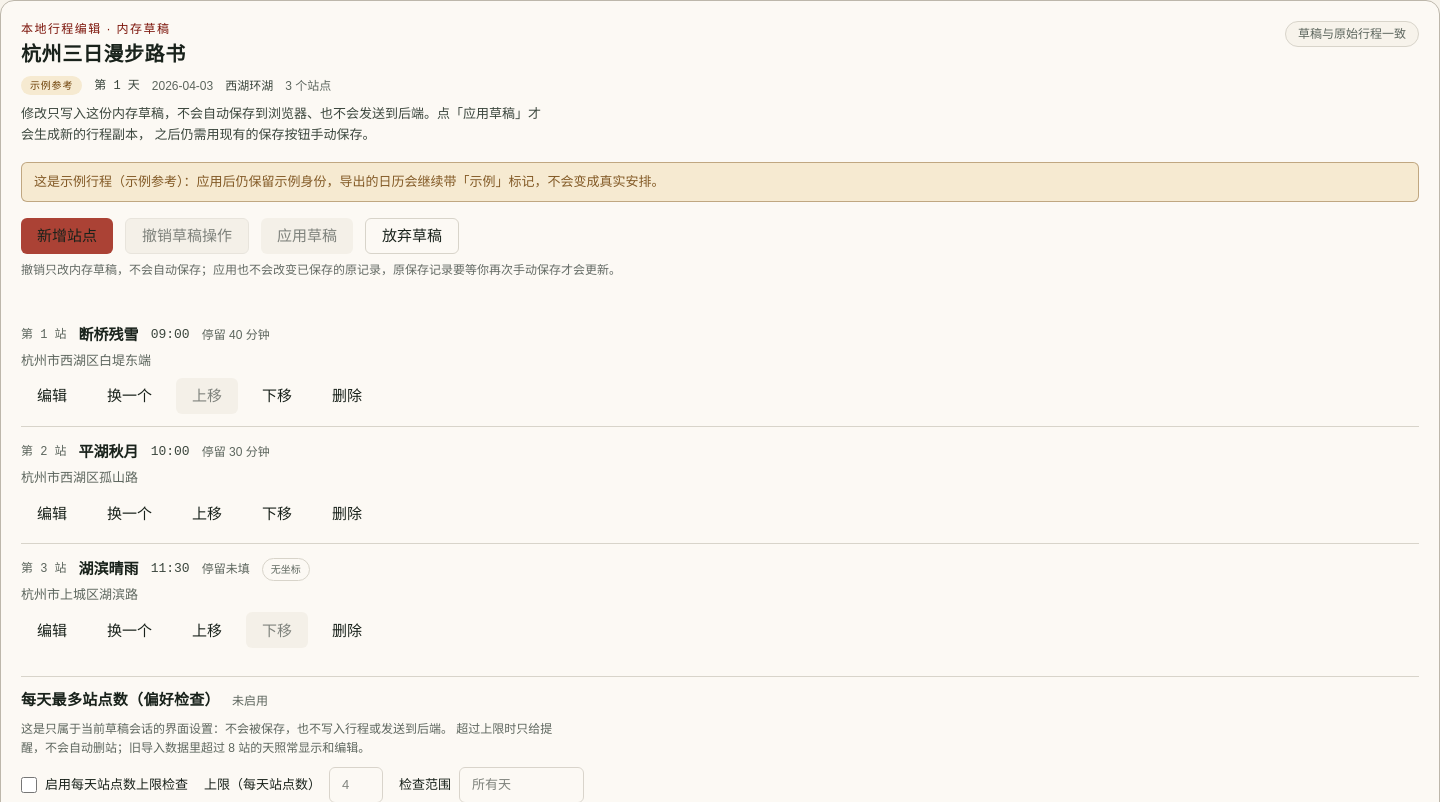
Test: TripDraftEditor · 换一个入口 › Esc 关闭后焦点回到「换一个」入口按钮
Click the button with test id "stop-swap-open-s1" at (130, 396), box [91,378,168,414]
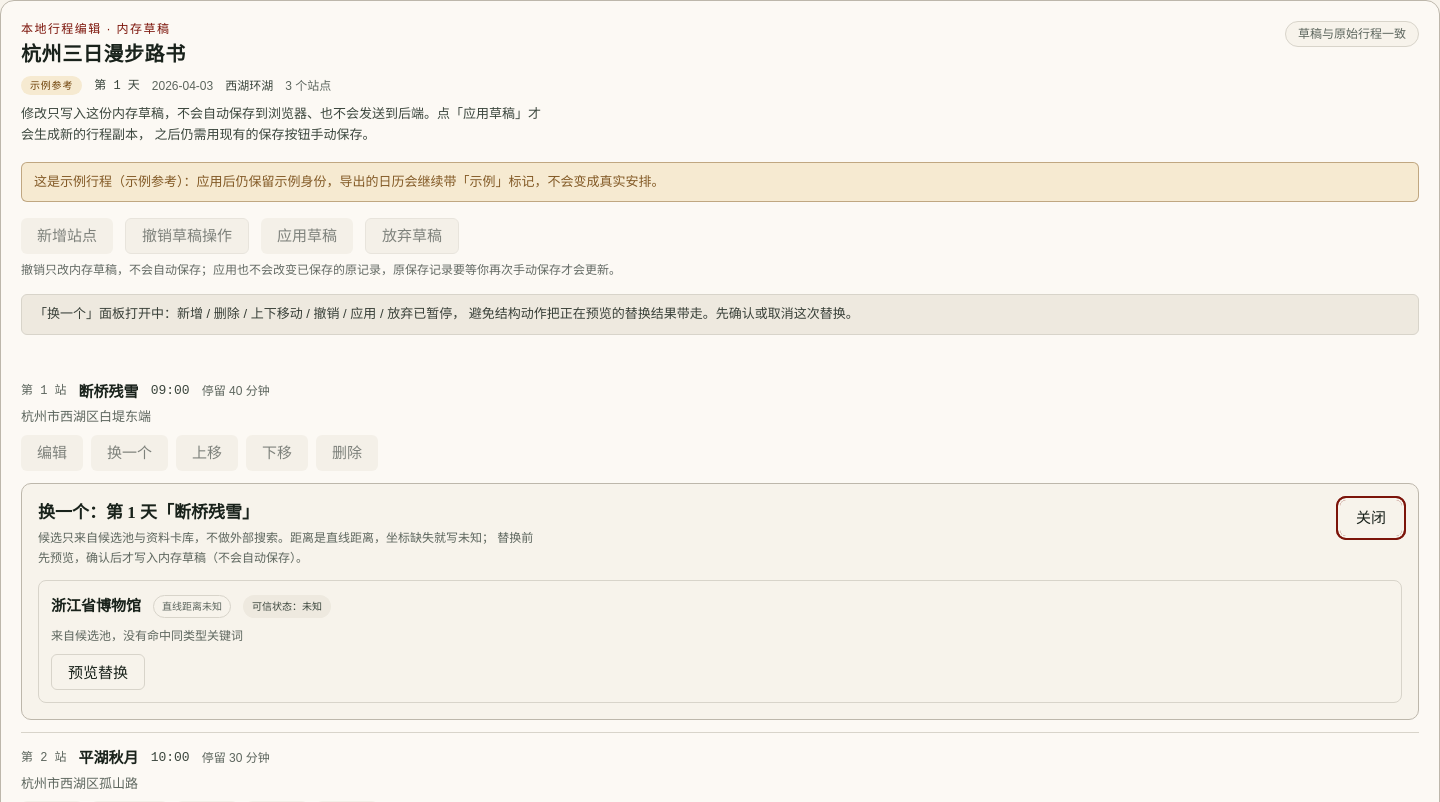
Result: the element with test id "stop-swap-panel" is shown at [21,483,1419,720]
Result: the button with test id "stop-swap-open-s1" is disabled at [91,435,168,471]
Press Escape
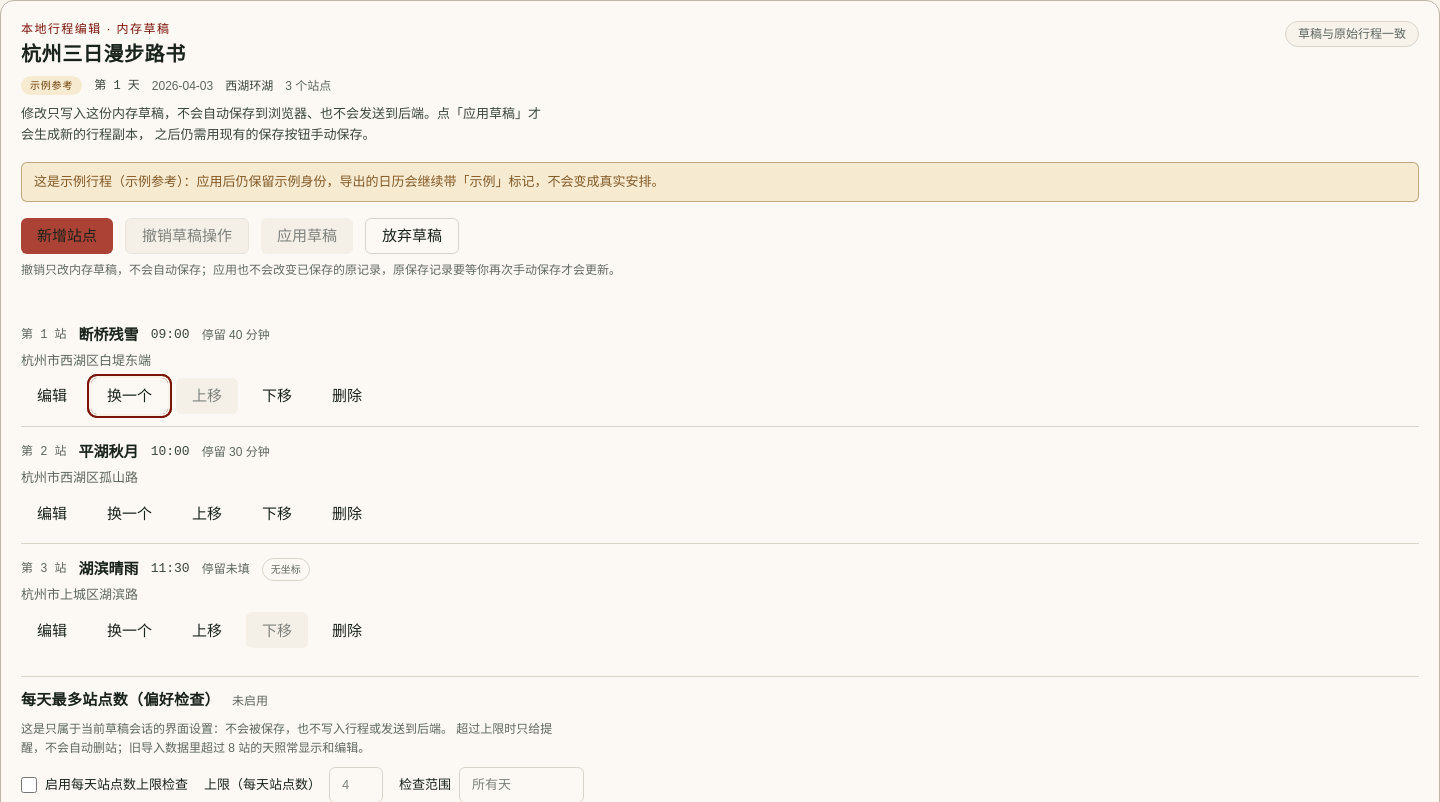
Result: the element with test id "stop-swap-panel" is gone
Result: the button with test id "stop-swap-open-s1" is enabled at [91,378,168,414]
